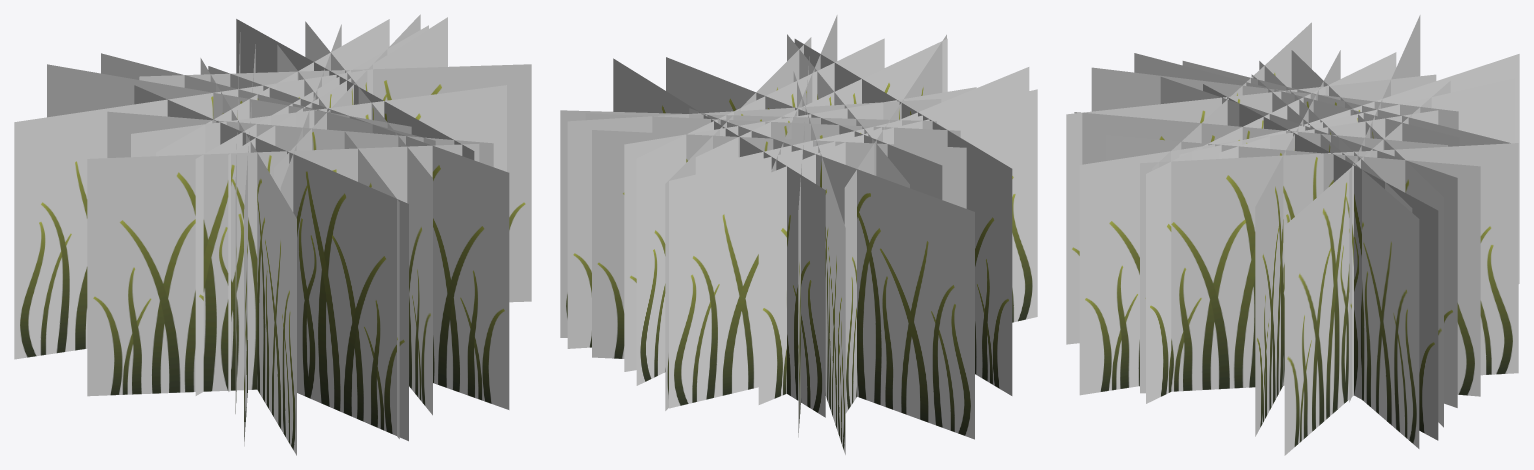
The model's file is grass_large.fbx.
3 renders of one model, left to right at view 1: azimuth 30°, elevation 25°; view 2: azimuth 150°, elevation 25°; view 3: azimuth 270°, elevation 25°, orthographic. The views are drawn at different scales.
Visible parts, largest first — view 1: grass_large_bundle; view 2: grass_large_bundle; view 3: grass_large_bundle.
Part boxes in pixels (left/top/right/bottom): grass_large_bundle: left=14, top=14, right=531, bottom=455; grass_large_bundle: left=560, top=15, right=1037, bottom=454; grass_large_bundle: left=1066, top=15, right=1519, bottom=455.
Bounding box in the file's own units: 45.11 × 22.88 × 40.82.
